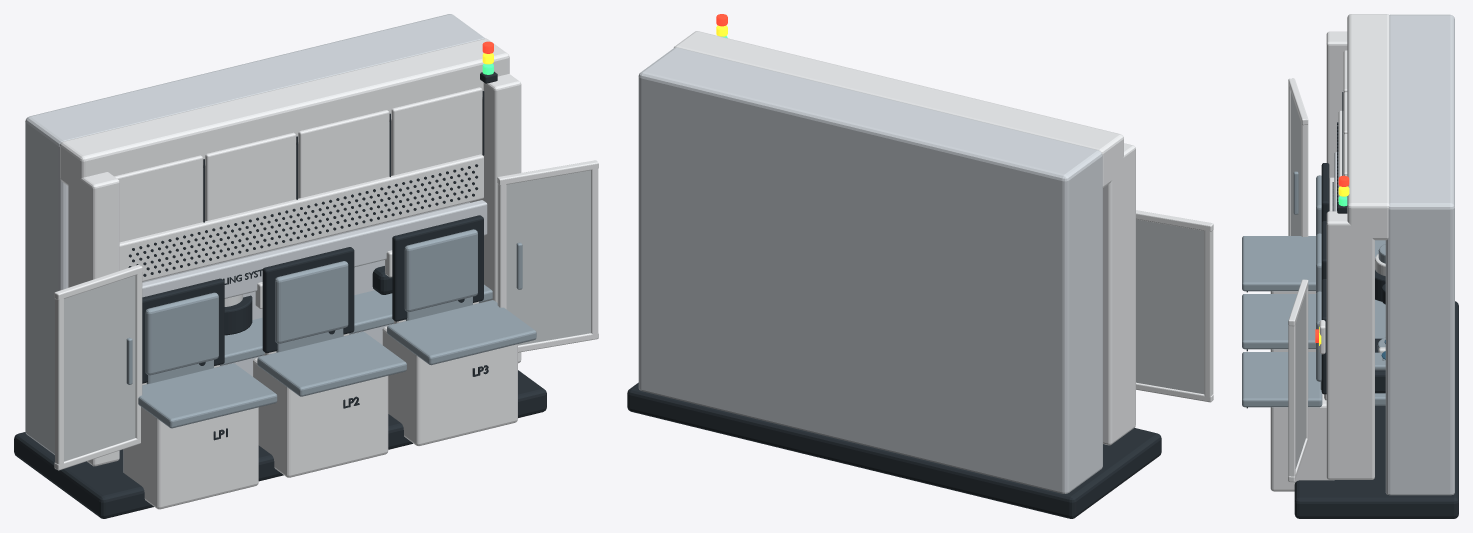
The model's file is EFEM.fbx.
3 renders of one model, left to right at view 1: azimuth 30°, elevation 25°; view 2: azimuth 150°, elevation 25°; view 3: azimuth 270°, elevation 25°, orthographic. The views are drawn at different scales.
Visible parts, largest first — view 1: EFEM_RearCabinet, EFEM_TopHeader, REF_VentPanel, SideDoor_Right_Glass, SideDoor_Left_Glass, LoadPort_02_Pedestal, LoadPort_03_Pedestal, LoadPort_01_Pedestal, EFEM_BasePlinth, REF_CenterFascia, REF_UpperCabinetPanel_4, REF_UpperCabinetPanel_3 (+22 smaller); view 2: EFEM_RearCabinet, EFEM_BasePlinth, SideDoor_Left_Glass, EFEM_TopHeader, EFEM_LeftColumn, SideDoor_Left_FrameV_-0.47, SideDoor_Left_FrameH_+0.89; view 3: EFEM_RearCabinet, EFEM_RightColumn, EFEM_TopHeader, EFEM_BasePlinth, LoadPort_01_Deck, LoadPort_03_Pedestal, LoadPort_03_Deck, LoadPort_02_Deck, EFEM_LeftColumn, SideDoor_Right_Glass, SideDoor_Right_FrameV_+0.47, SideDoor_Left_Glass (+14 smaller).
Part boxes in pixels (x1,y1,x2,y2): EFEM_RearCabinet: (25, 14, 485, 454); EFEM_TopHeader: (60, 38, 509, 185); REF_VentPanel: (119, 154, 483, 281); SideDoor_Right_Glass: (506, 170, 591, 345); SideDoor_Left_Glass: (64, 275, 135, 461); LoadPort_02_Pedestal: (253, 358, 388, 477); LoadPort_03_Pedestal: (382, 326, 517, 445); LoadPort_01_Pedestal: (123, 407, 258, 509); EFEM_BasePlinth: (14, 370, 546, 518); REF_CenterFascia: (142, 200, 487, 298); REF_UpperCabinetPanel_4: (391, 87, 482, 175); REF_UpperCabinetPanel_3: (298, 110, 389, 198); EFEM_RearCabinet: (638, 47, 1102, 493); EFEM_BasePlinth: (627, 382, 1161, 518); SideDoor_Left_Glass: (1136, 219, 1204, 394); EFEM_TopHeader: (674, 31, 1123, 187); EFEM_LeftColumn: (1103, 143, 1135, 445); SideDoor_Left_FrameV_-0.47: (1204, 228, 1213, 399); SideDoor_Left_FrameH_+0.89: (1136, 210, 1213, 231); EFEM_RearCabinet: (1385, 14, 1454, 495); EFEM_RightColumn: (1326, 211, 1374, 479); EFEM_TopHeader: (1347, 14, 1389, 240); EFEM_BasePlinth: (1294, 301, 1458, 518); LoadPort_01_Deck: (1242, 236, 1315, 291); LoadPort_03_Pedestal: (1270, 394, 1334, 491); LoadPort_03_Deck: (1242, 352, 1322, 407); LoadPort_02_Deck: (1242, 294, 1315, 349); EFEM_LeftColumn: (1326, 31, 1347, 177); SideDoor_Right_Glass: (1295, 293, 1305, 468); SideDoor_Right_FrameV_+0.47: (1288, 324, 1295, 476); SideDoor_Left_Glass: (1291, 92, 1300, 235).
Size of the model in its own units: 594 by 375 by 224.
